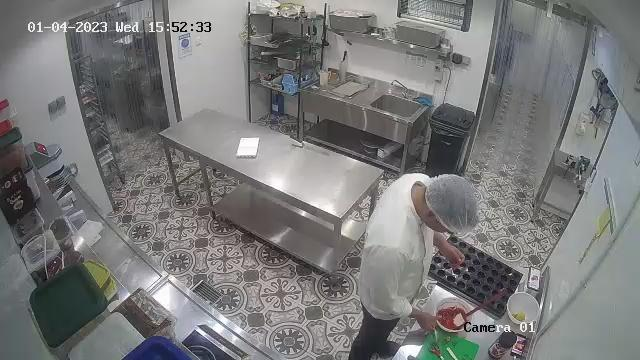no_apron: (388, 208, 440, 324)
